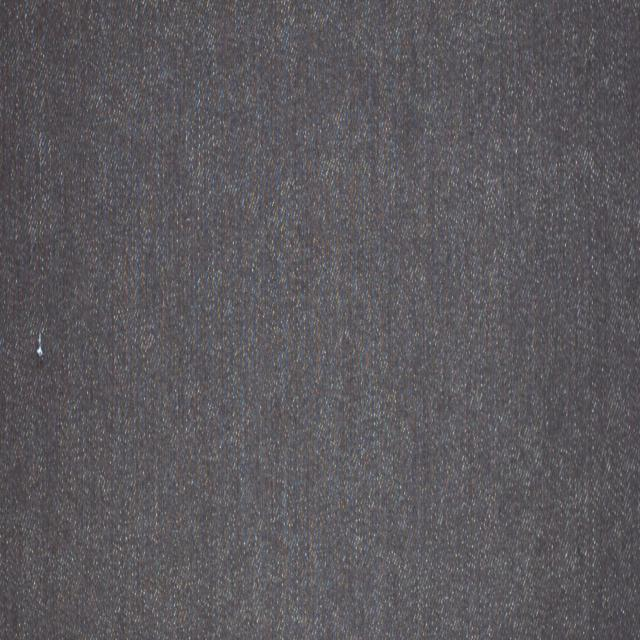Knot: (34, 329, 45, 366)
